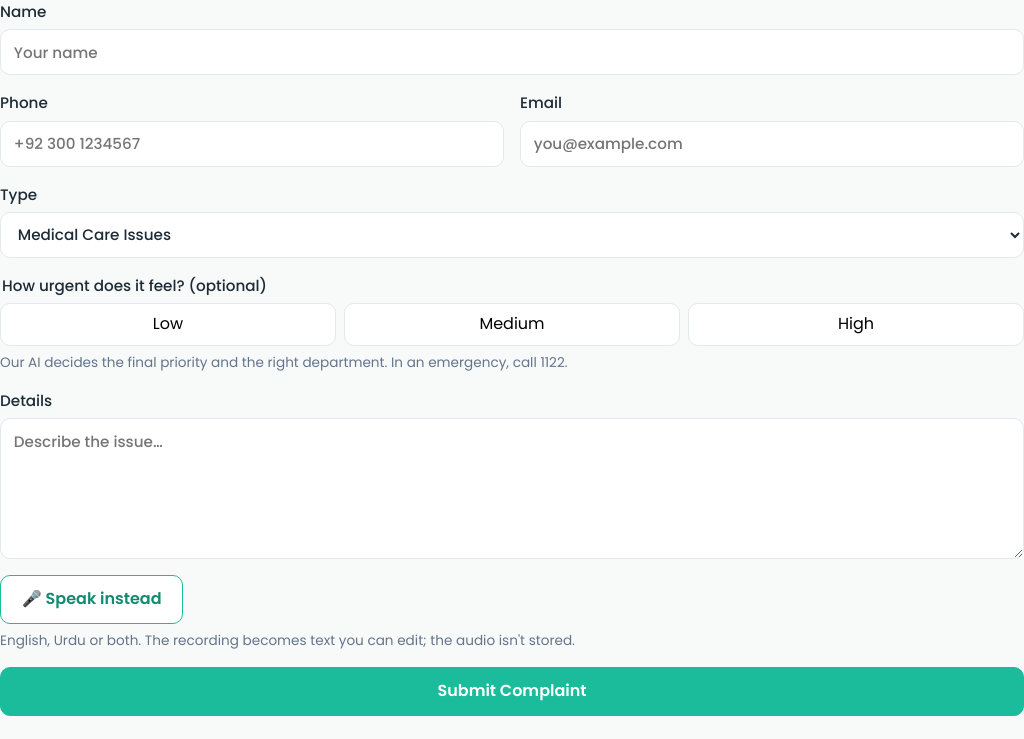
Scenario: ComplaintForm › shows the API error and keeps what was typed
Type "Test Patient" into the field labelled "Name". click: (512, 52)
box: [0,29,1023,76]
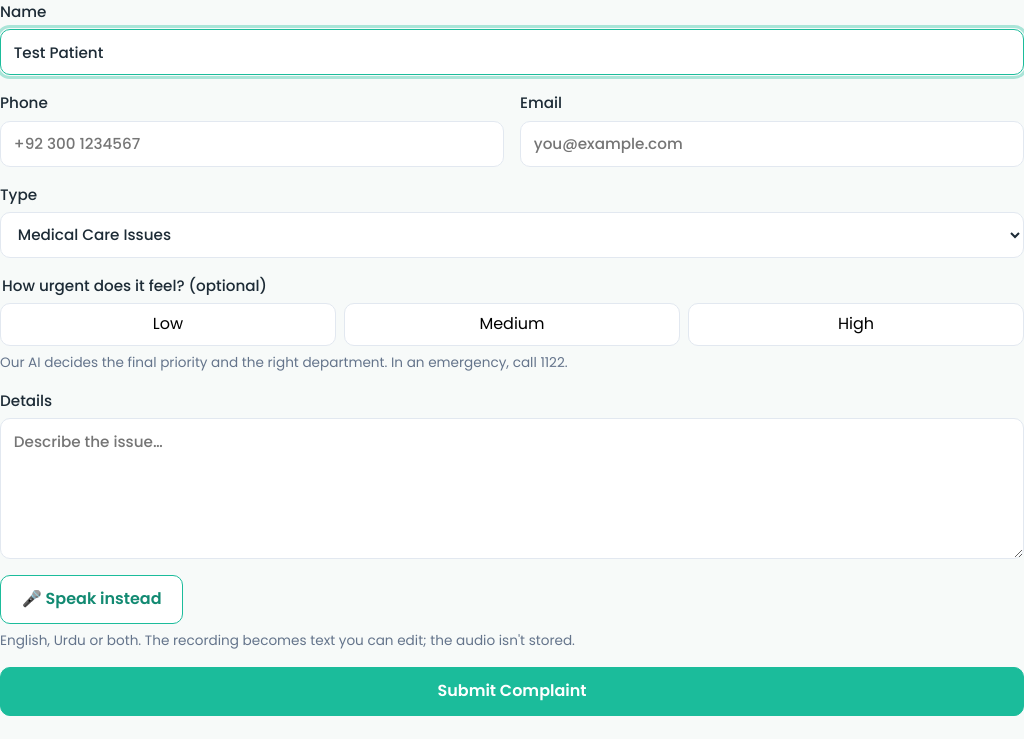
Type "03001234567" into the field labelled "Phone". click: (252, 144)
box: [0,121,504,167]
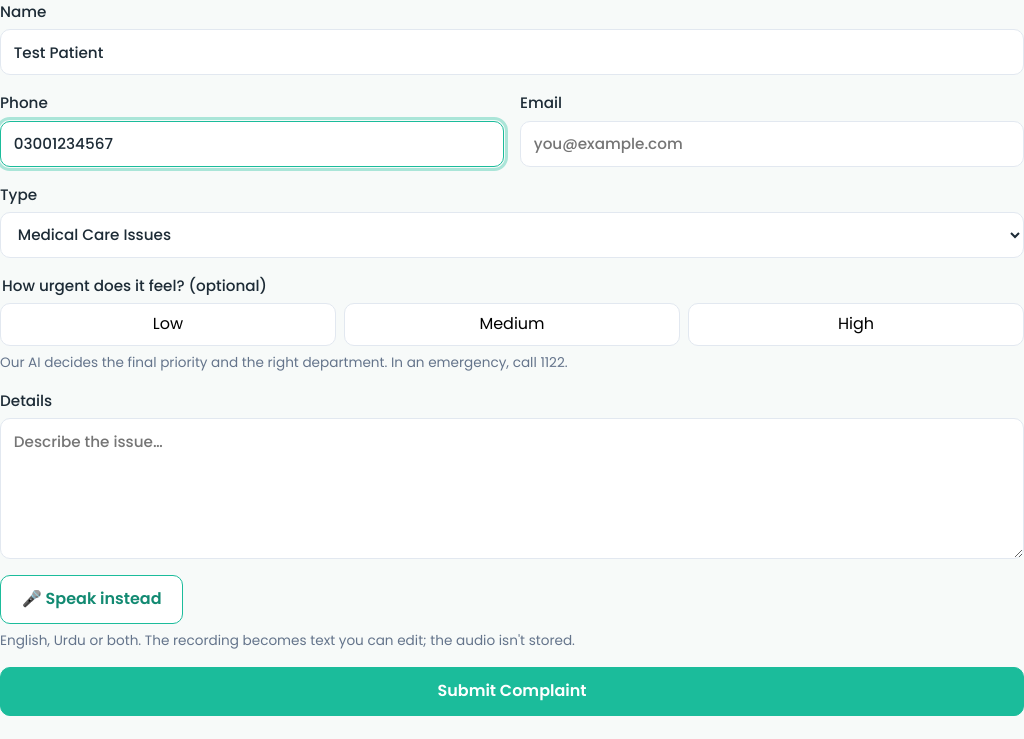
Type "patient@example.test" into the field labelled "Email". click: (772, 144)
box: [520,121,1023,167]
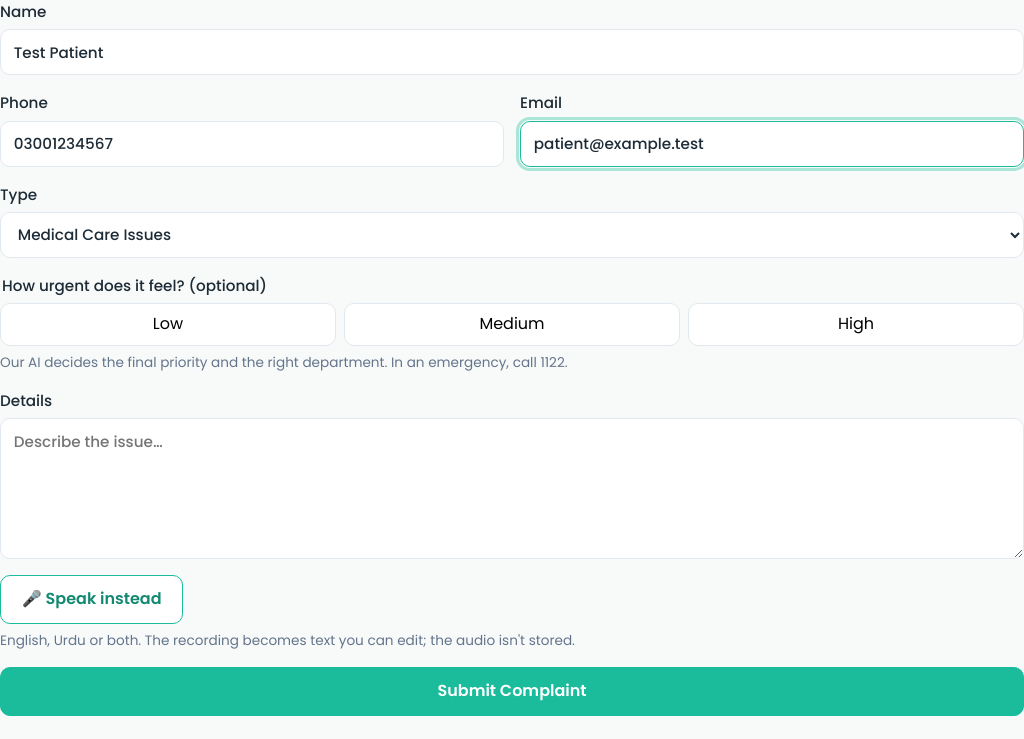
Select "Billing Problems" in the dropdown labelled "Type". click: (512, 235)
box: [0,212,1023,258]
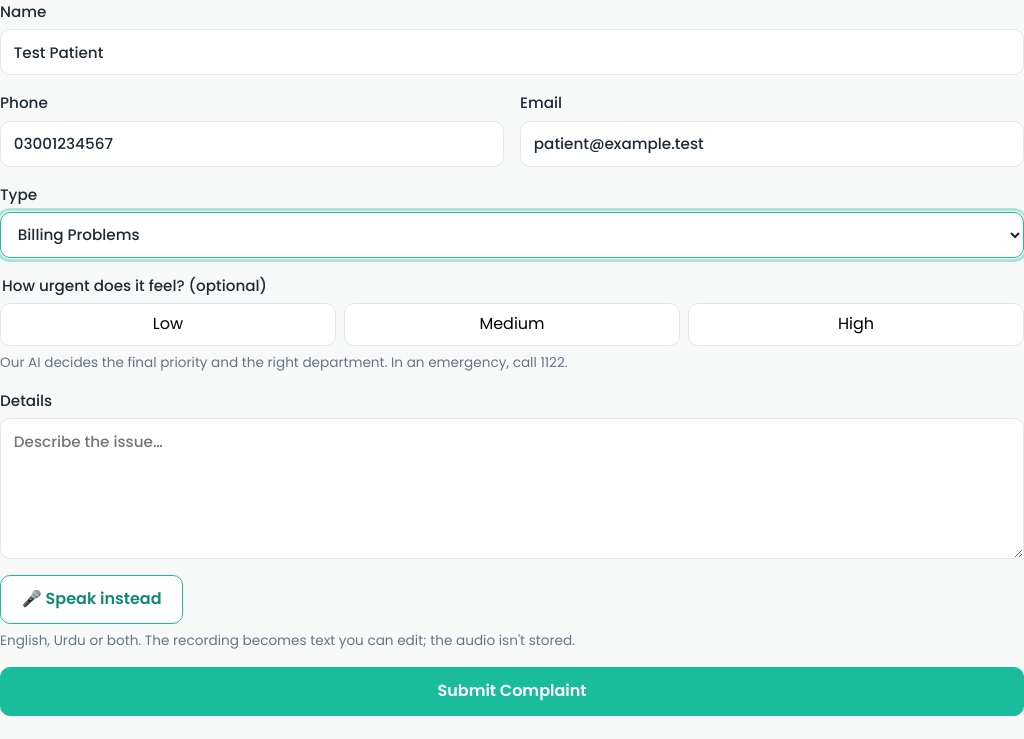
Type "I was charged twice for the same lab test." into the text box labelled "Details". click: (512, 489)
box: [0,418,1023,559]
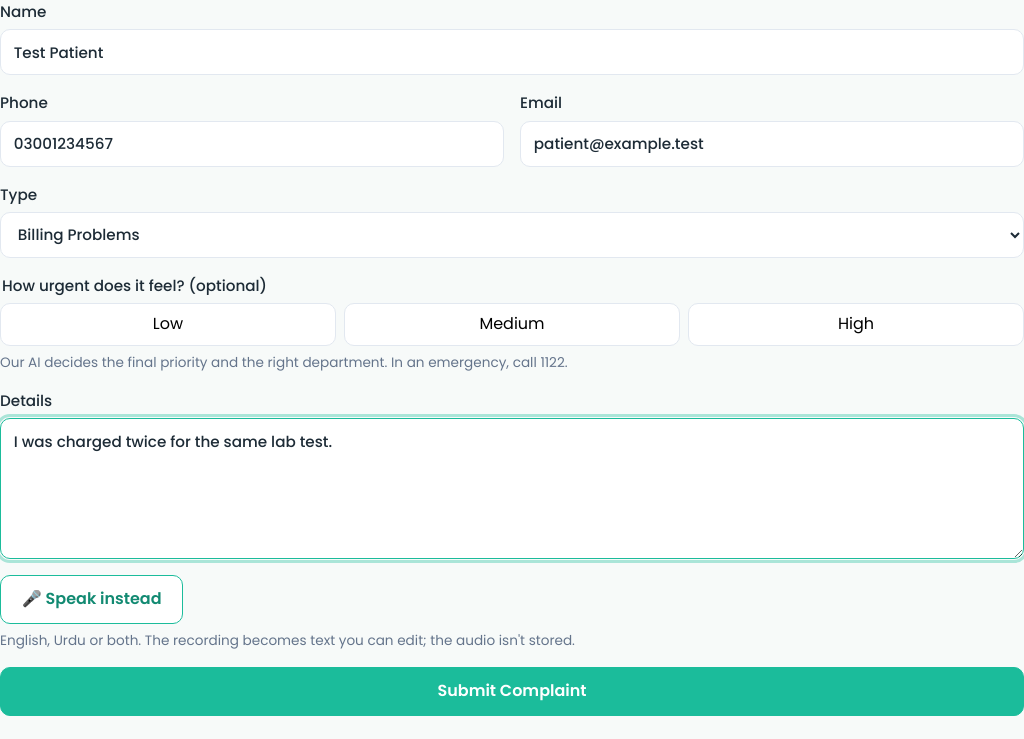
Click the button "Submit Complaint". click: (512, 691)
box: [0,667,1023,716]
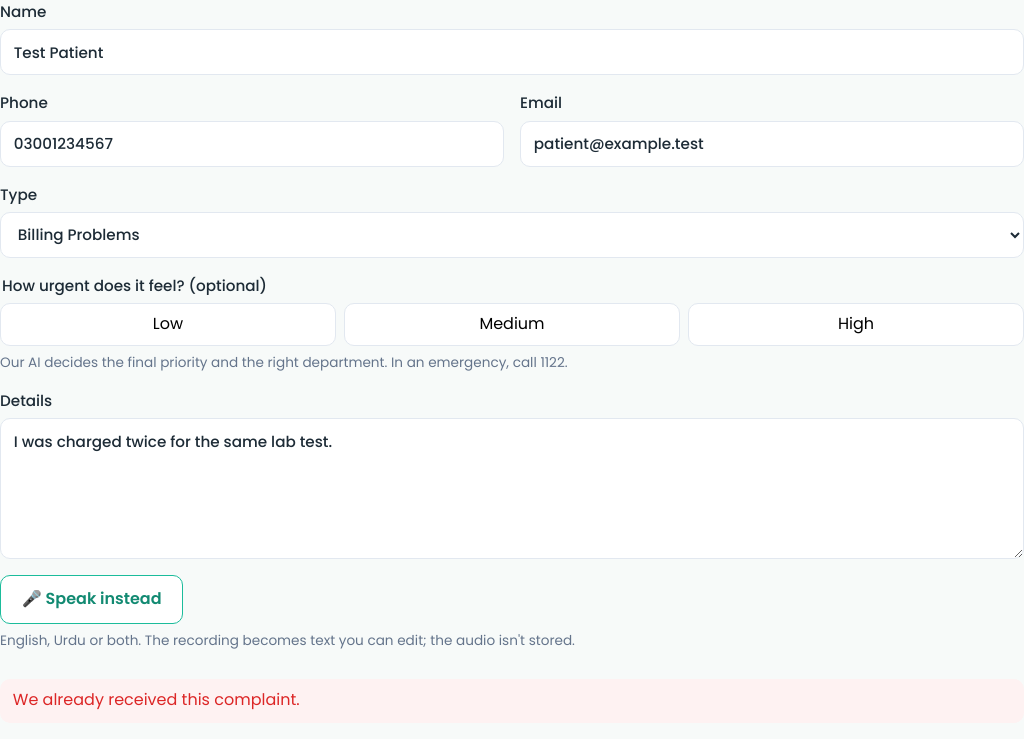
expect the message reads "We already received this complaint.": met, box [13,688,300,711]
